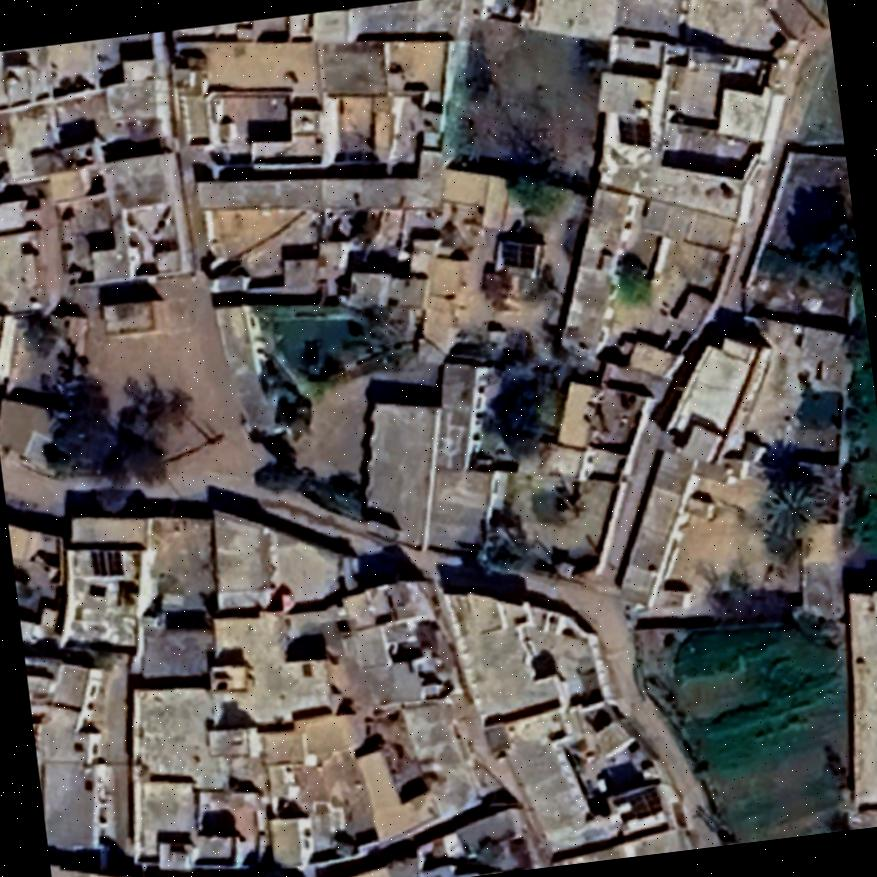Solarpanel: (494, 228, 546, 275), (608, 784, 666, 822), (84, 541, 128, 584), (613, 110, 655, 152)
